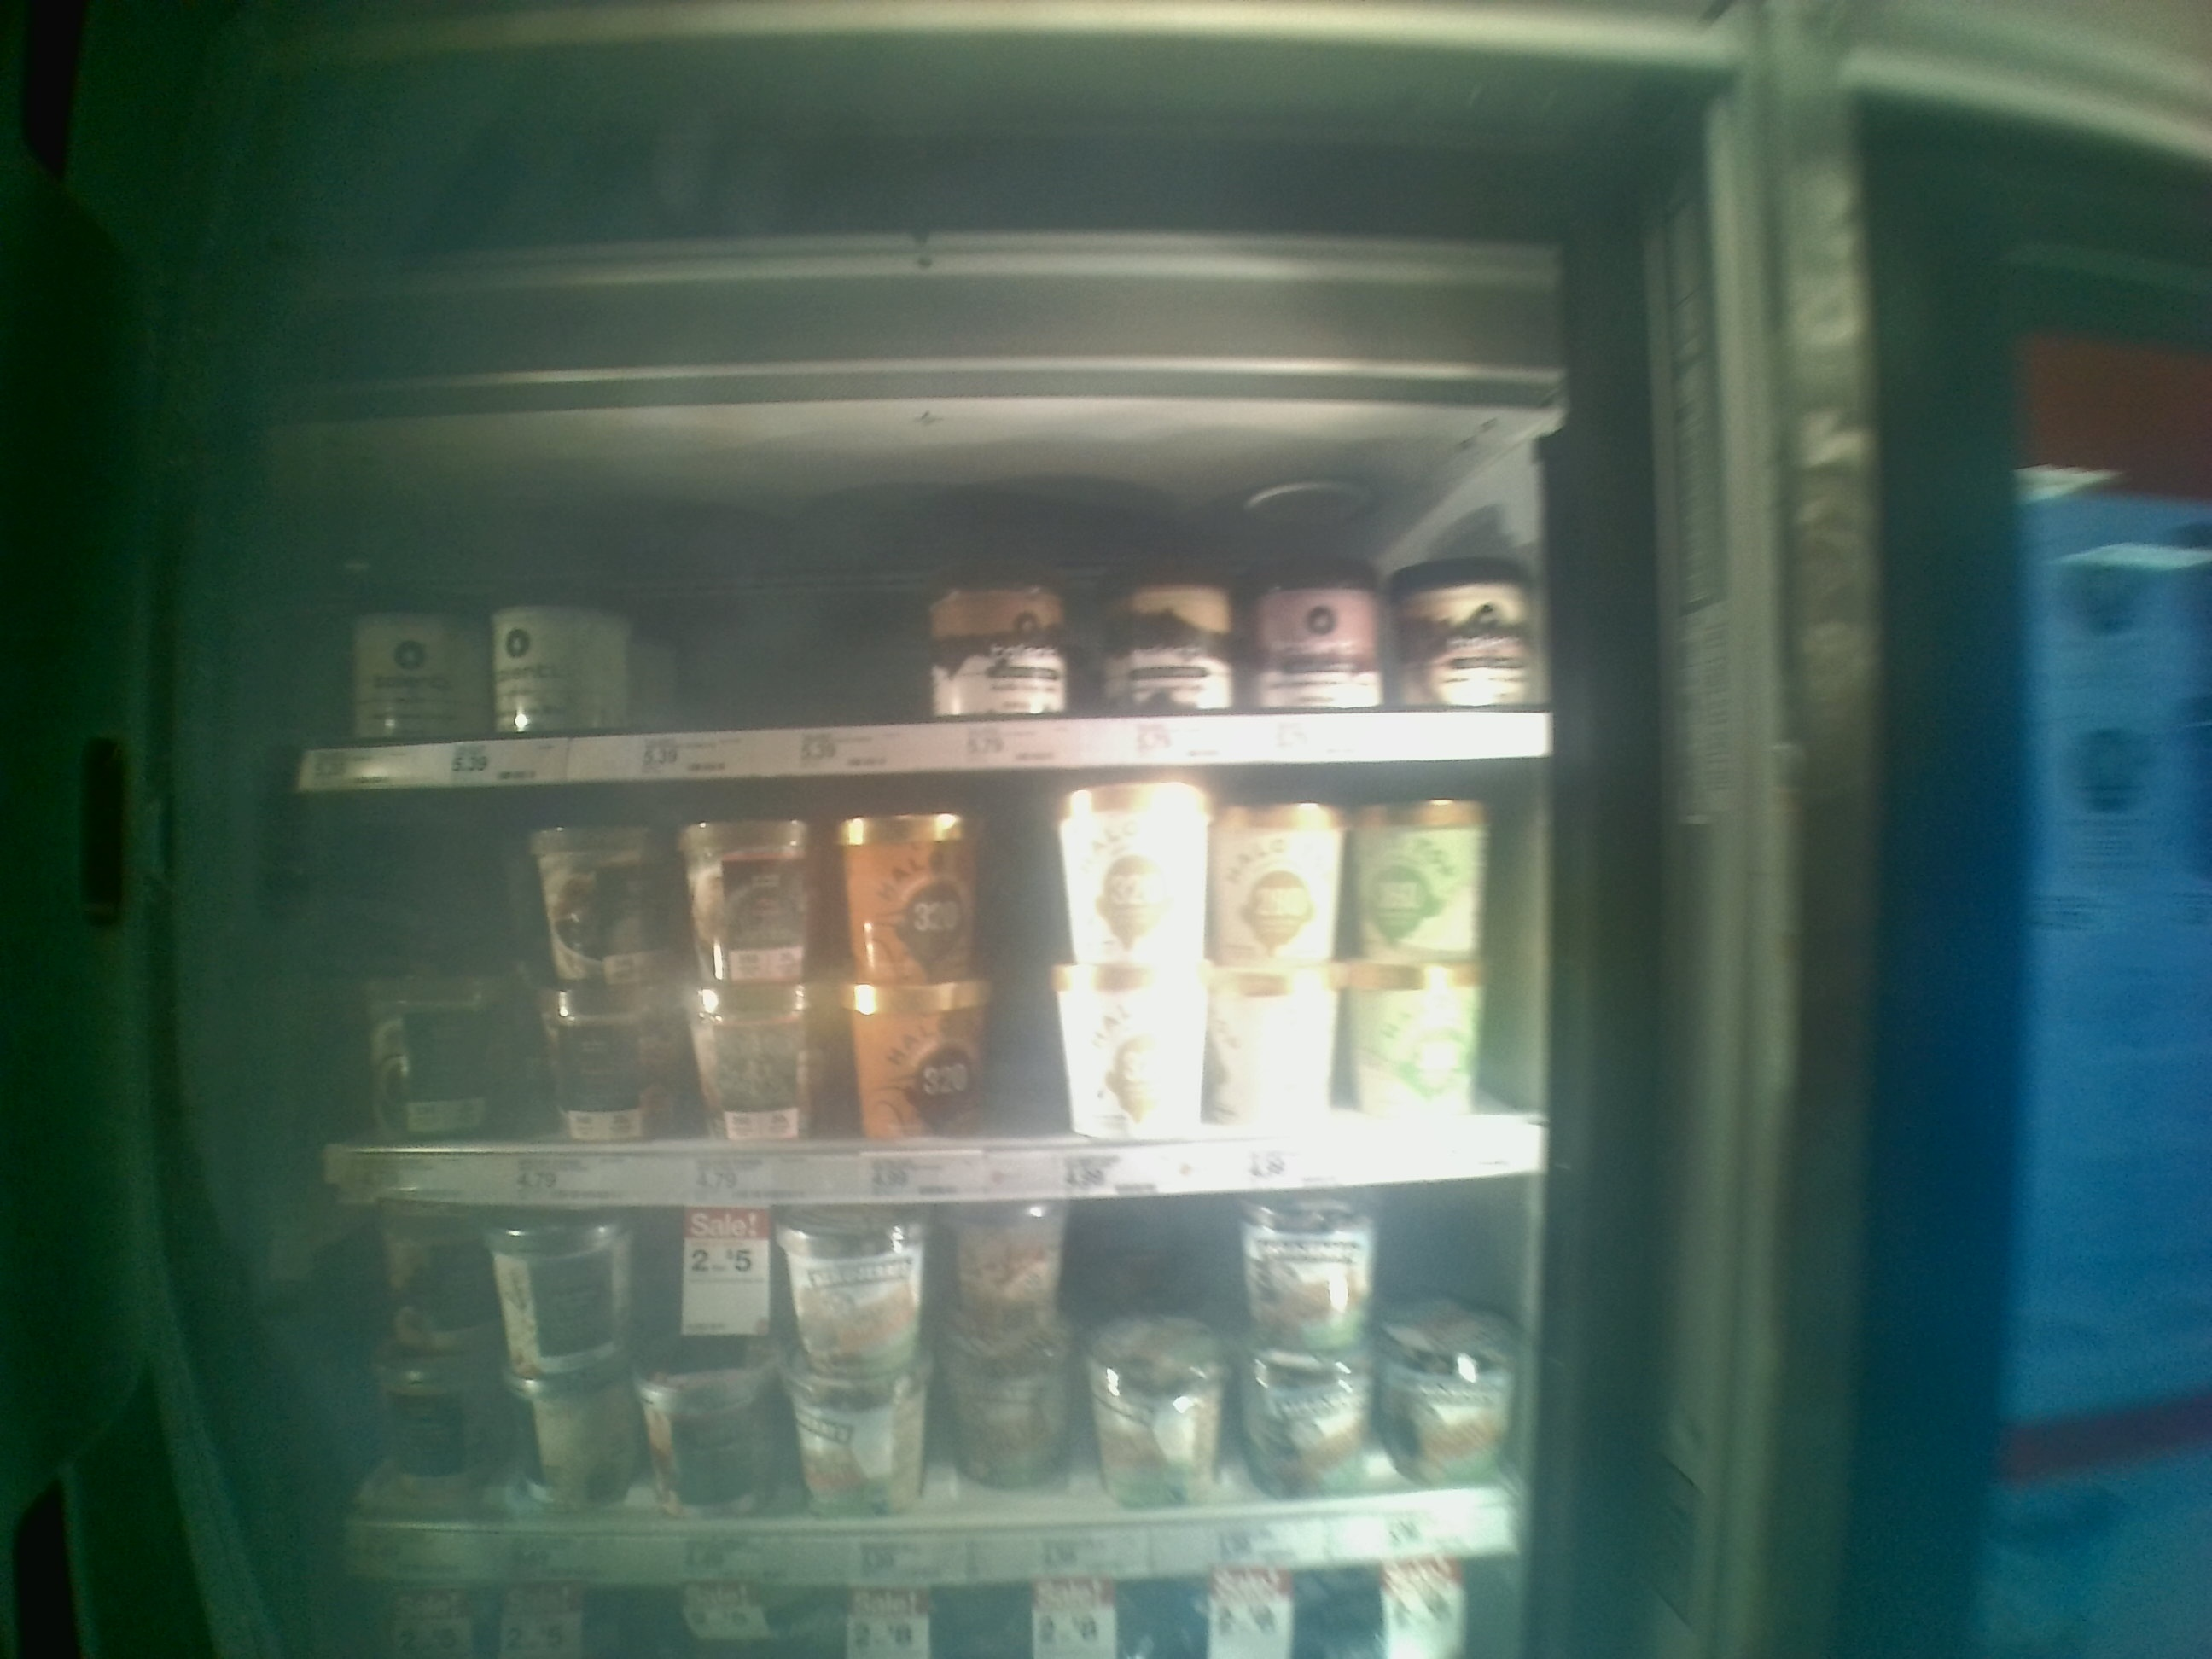ice-cream-shelf: (291, 774, 1559, 1180), (298, 441, 1554, 772)
